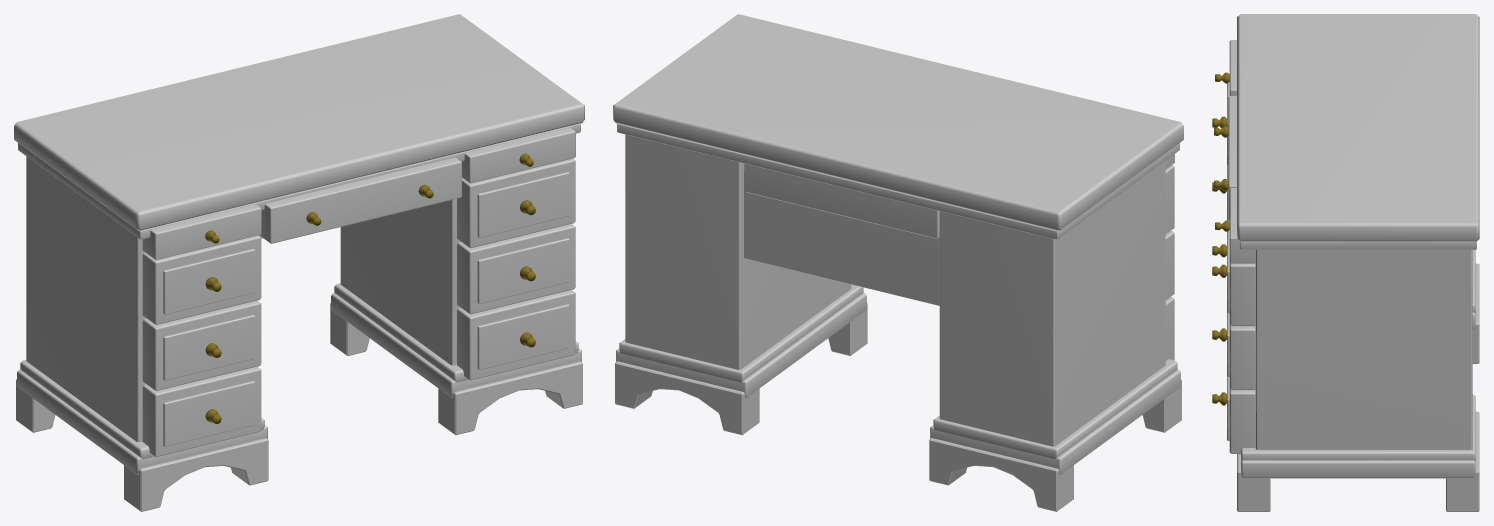
File: 07_Walnut_Desk.fbx
3 views of the same model, side by side, from view 1: azimuth 30°, elevation 25°; view 2: azimuth 150°, elevation 25°; view 3: azimuth 270°, elevation 25° (orthographic). The views are drawn at different scales.
Parts seen in each view (by area): view 1: 07_Walnut_Desk; view 2: 07_Walnut_Desk; view 3: 07_Walnut_Desk.
Part boxes in pixels (x1,y1,x2,y2): 07_Walnut_Desk: [14, 14, 584, 511]; 07_Walnut_Desk: [613, 14, 1183, 511]; 07_Walnut_Desk: [1212, 14, 1479, 511].
Bounding box in the file's own units: 1.28 × 0.8175 × 0.683.
